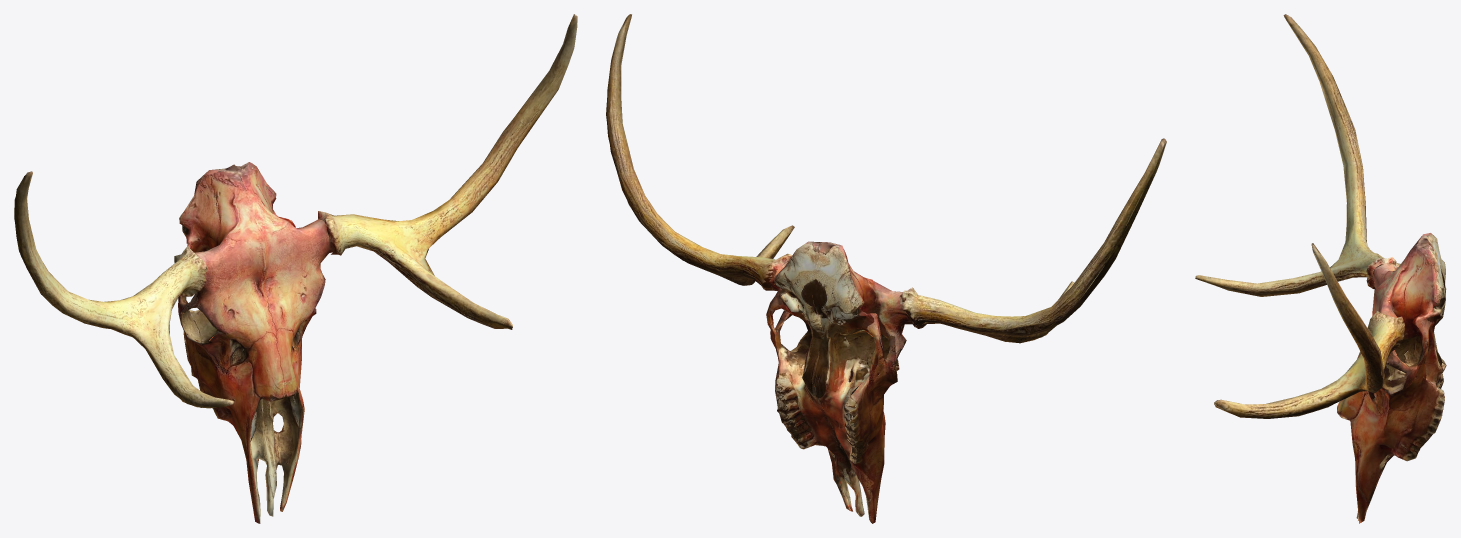
File: deer_skull.glb
The picture shows the model from 3 angles, left to right: view 1: azimuth 30°, elevation 25°; view 2: azimuth 150°, elevation 25°; view 3: azimuth 270°, elevation 25°; orthographic projection. The views are drawn at different scales.
Visible parts, largest first — view 1: Deer_skull__0; view 2: Deer_skull__0; view 3: Deer_skull__0.
Part boxes in pixels (x1,y1,x2,y2): Deer_skull__0: (14, 14, 577, 523); Deer_skull__0: (606, 14, 1166, 523); Deer_skull__0: (1195, 14, 1446, 523).
Size of the model in its own units: 91.76 by 70.41 by 40.24.
Materials: 1 (1 with a texture image).
